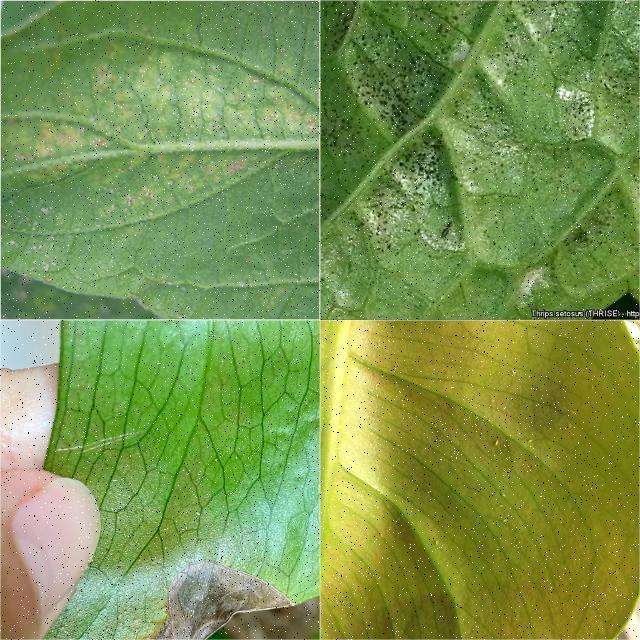Thrips: (324, 11, 629, 292), (8, 65, 317, 250), (139, 553, 289, 640)
